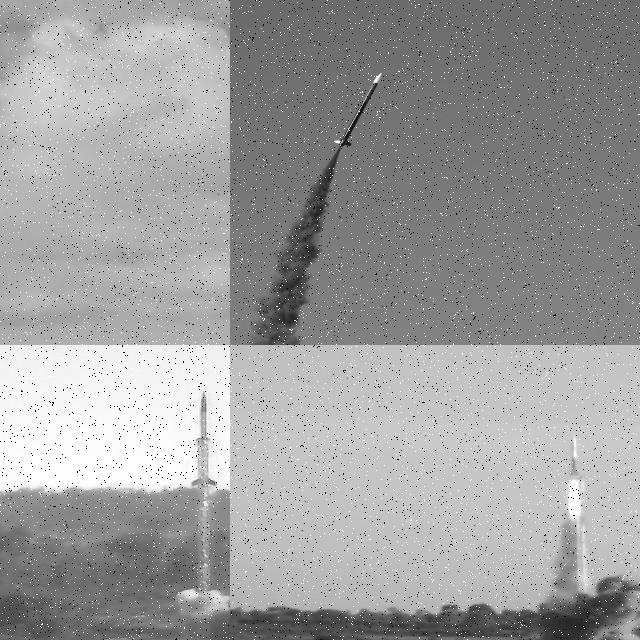Rocket: (333, 73, 382, 147), (191, 390, 217, 488), (569, 434, 579, 476)
